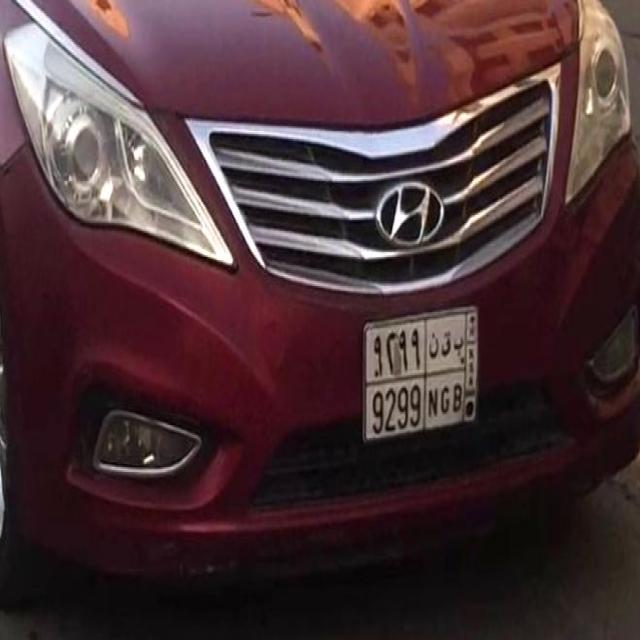Car-plate: (357, 302, 488, 446)
